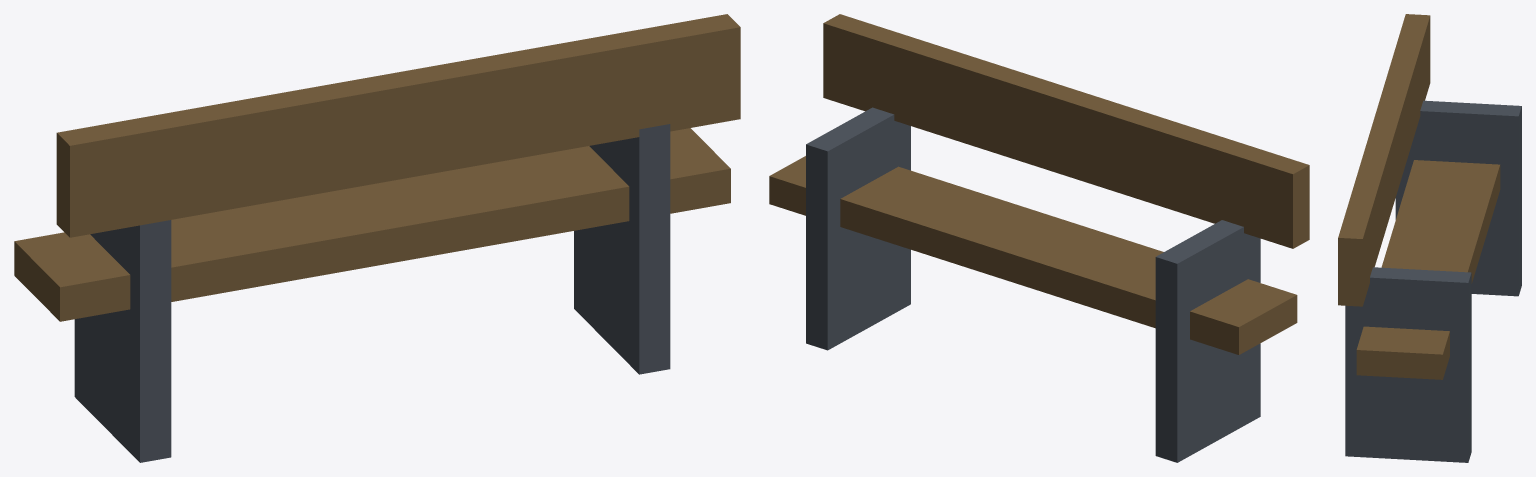
Rendered from cell-180_315.glb.
3 renders of one model, left to right at view 1: azimuth 30°, elevation 25°; view 2: azimuth 150°, elevation 25°; view 3: azimuth 270°, elevation 25°, orthographic. The views are drawn at different scales.
Parts seen in each view (by area): view 1: cell-180_315; view 2: cell-180_315; view 3: cell-180_315.
Part boxes in pixels (x1,y1,x2,y2): cell-180_315: (14,14,740,462); cell-180_315: (769,14,1309,462); cell-180_315: (1338,14,1521,462).
Bounding box in the file's own units: 0.8746 × 0.43 × 0.2959.
